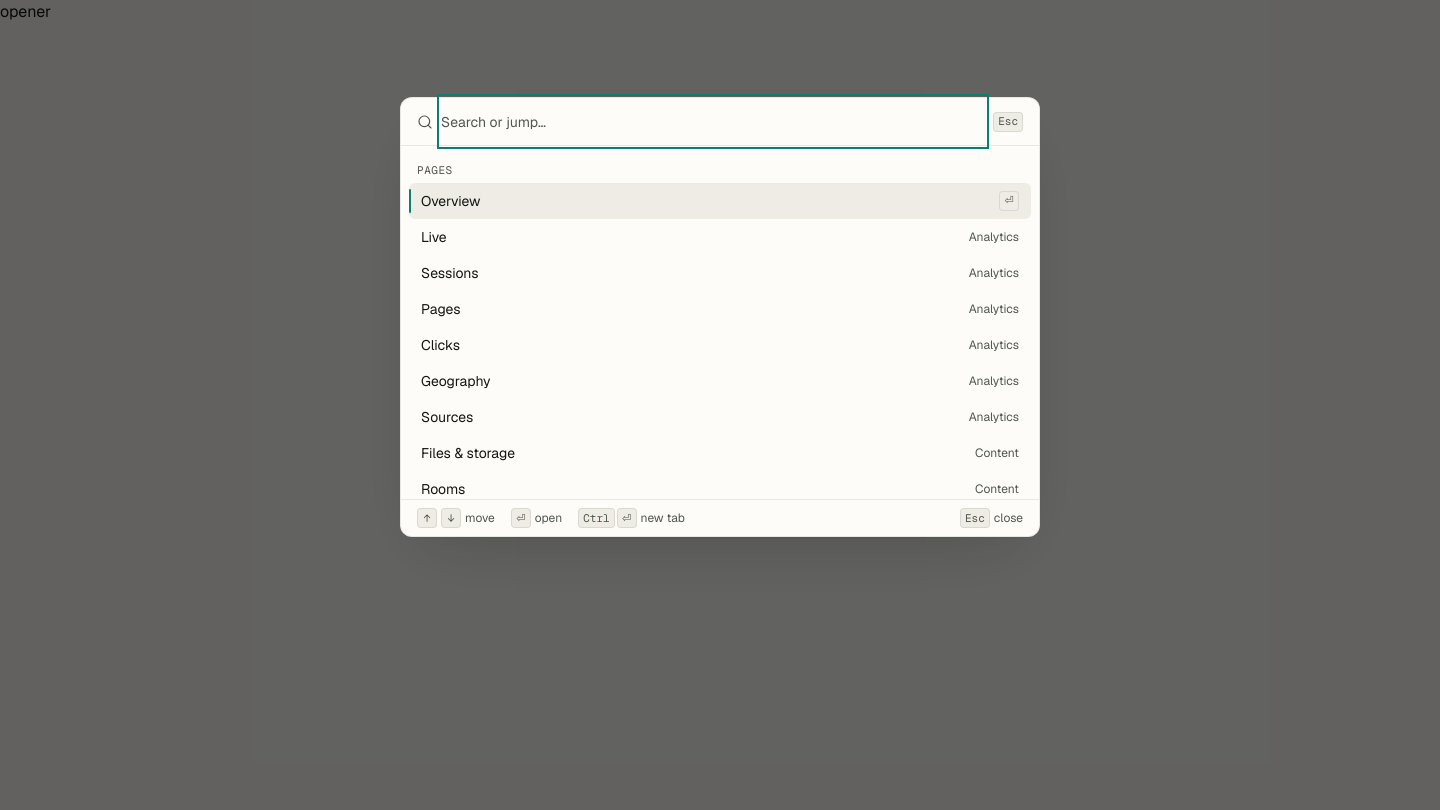
Test case: CommandPalette › a partial IP gets a hint and no server call
Type "39.4.2" into the dropdown at (713, 122), box [441, 98, 985, 145]
Wait 500 ms
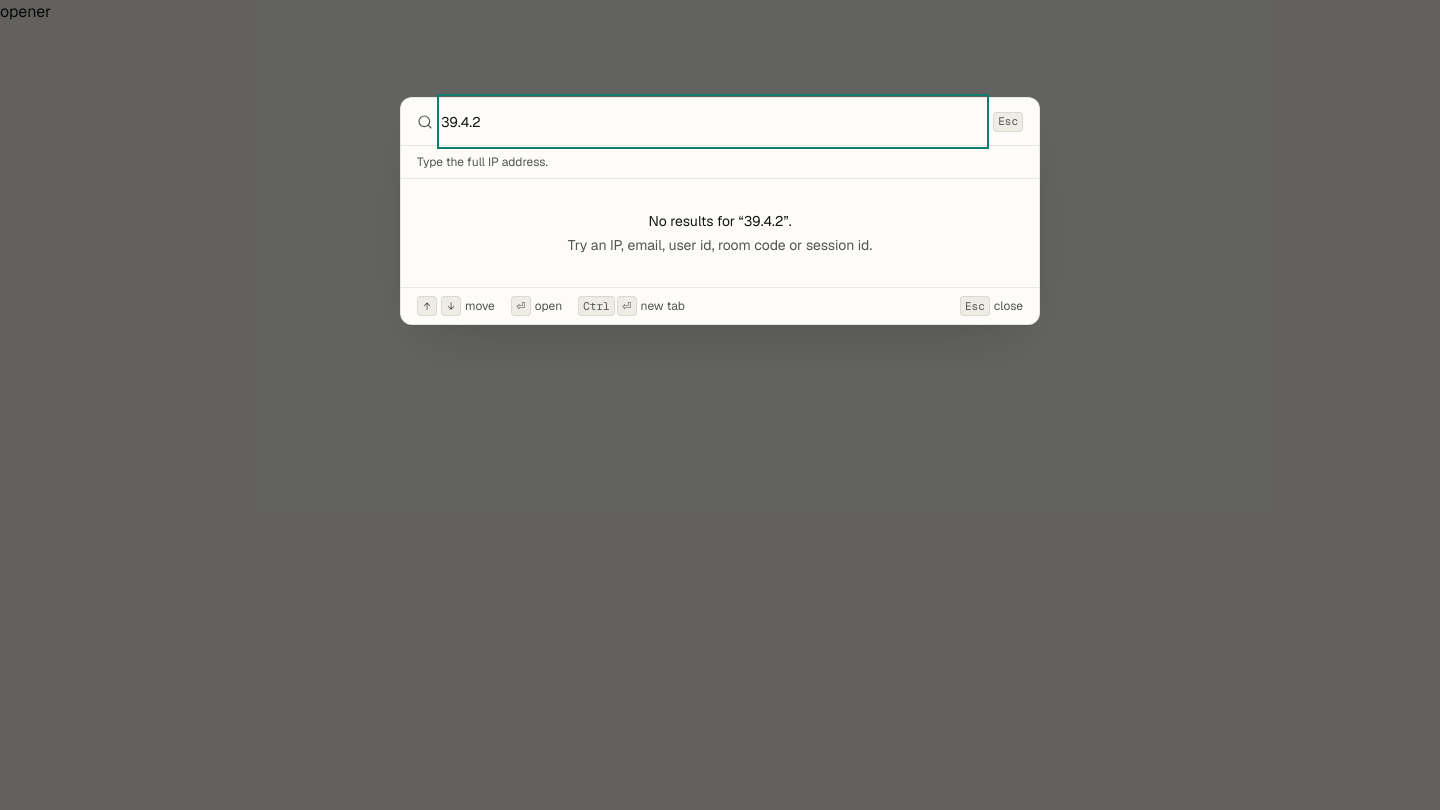
Result: the text "Type the full IP address." is shown at [417, 154, 548, 170]
